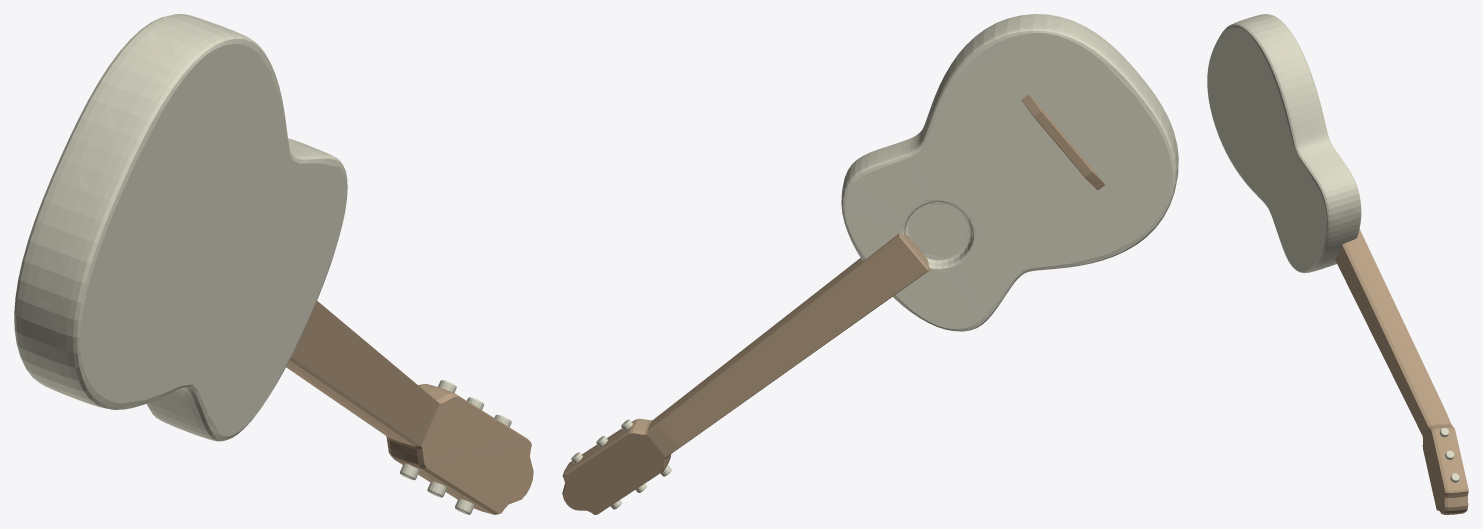
Rendered from Dazzling Gaaris-Leelo (2).glb.
3 views of the same model, side by side, from view 1: azimuth 30°, elevation 25°; view 2: azimuth 150°, elevation 25°; view 3: azimuth 270°, elevation 25° (orthographic). The views are drawn at different scales.
Visible parts, largest first — view 1: Mesh_Mesh_head_geo.001_lambert2SG.001; view 2: Mesh_Mesh_head_geo.001_lambert2SG.001; view 3: Mesh_Mesh_head_geo.001_lambert2SG.001.
Part boxes in pixels (x1,y1,x2,y2): Mesh_Mesh_head_geo.001_lambert2SG.001: (14,14,533,514); Mesh_Mesh_head_geo.001_lambert2SG.001: (562,14,1178,514); Mesh_Mesh_head_geo.001_lambert2SG.001: (1207,14,1468,514).
Bounding box in the file's own units: 35.21 × 34.19 × 21.98.
